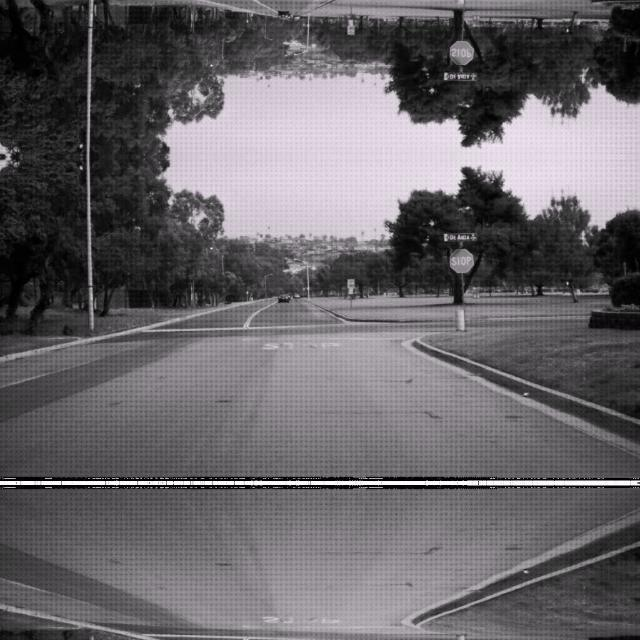stop: (449, 246, 473, 272), (449, 40, 473, 66)
